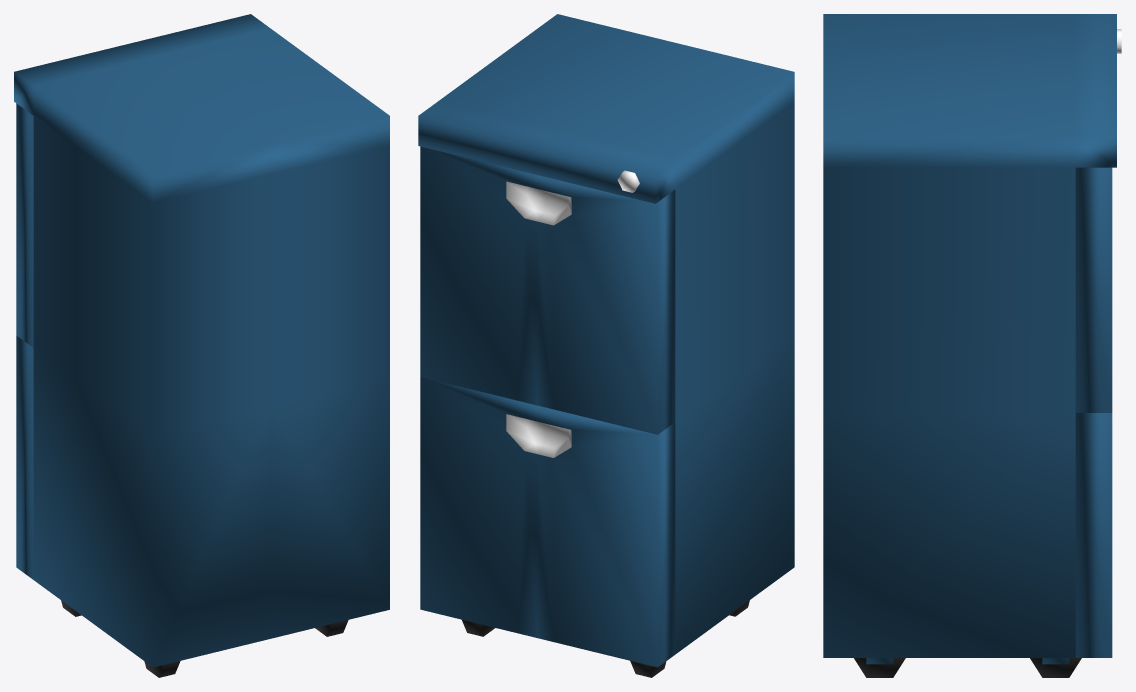
Rendered from mesh_cabinets.fbx.
3 views of the same model, side by side, from view 1: azimuth 30°, elevation 25°; view 2: azimuth 150°, elevation 25°; view 3: azimuth 270°, elevation 25° (orthographic). The views are drawn at different scales.
Visible parts, largest first — view 1: mesh_furniture_cabinet_big_body_01, mesh_furniture_cabinet_big_door_top_01, mesh_furniture_cabinet_big_door_bot_01; view 2: mesh_furniture_cabinet_big_body_01, mesh_furniture_cabinet_big_door_bot_01, mesh_furniture_cabinet_big_door_top_01; view 3: mesh_furniture_cabinet_big_body_01, mesh_furniture_cabinet_big_door_top_01, mesh_furniture_cabinet_big_door_bot_01.
Part boxes in pixels (bbox=[...]): mesh_furniture_cabinet_big_body_01: bbox=[14, 14, 389, 677]; mesh_furniture_cabinet_big_door_top_01: bbox=[16, 103, 33, 347]; mesh_furniture_cabinet_big_door_bot_01: bbox=[16, 335, 33, 579]; mesh_furniture_cabinet_big_body_01: bbox=[418, 14, 794, 677]; mesh_furniture_cabinet_big_door_bot_01: bbox=[420, 377, 675, 667]; mesh_furniture_cabinet_big_door_top_01: bbox=[420, 146, 675, 434]; mesh_furniture_cabinet_big_body_01: bbox=[823, 14, 1121, 677]; mesh_furniture_cabinet_big_door_top_01: bbox=[1075, 167, 1112, 412]; mesh_furniture_cabinet_big_door_bot_01: bbox=[1075, 413, 1112, 657].
Bounding box in the file's own units: 14.49 × 30.74 × 14.95.
